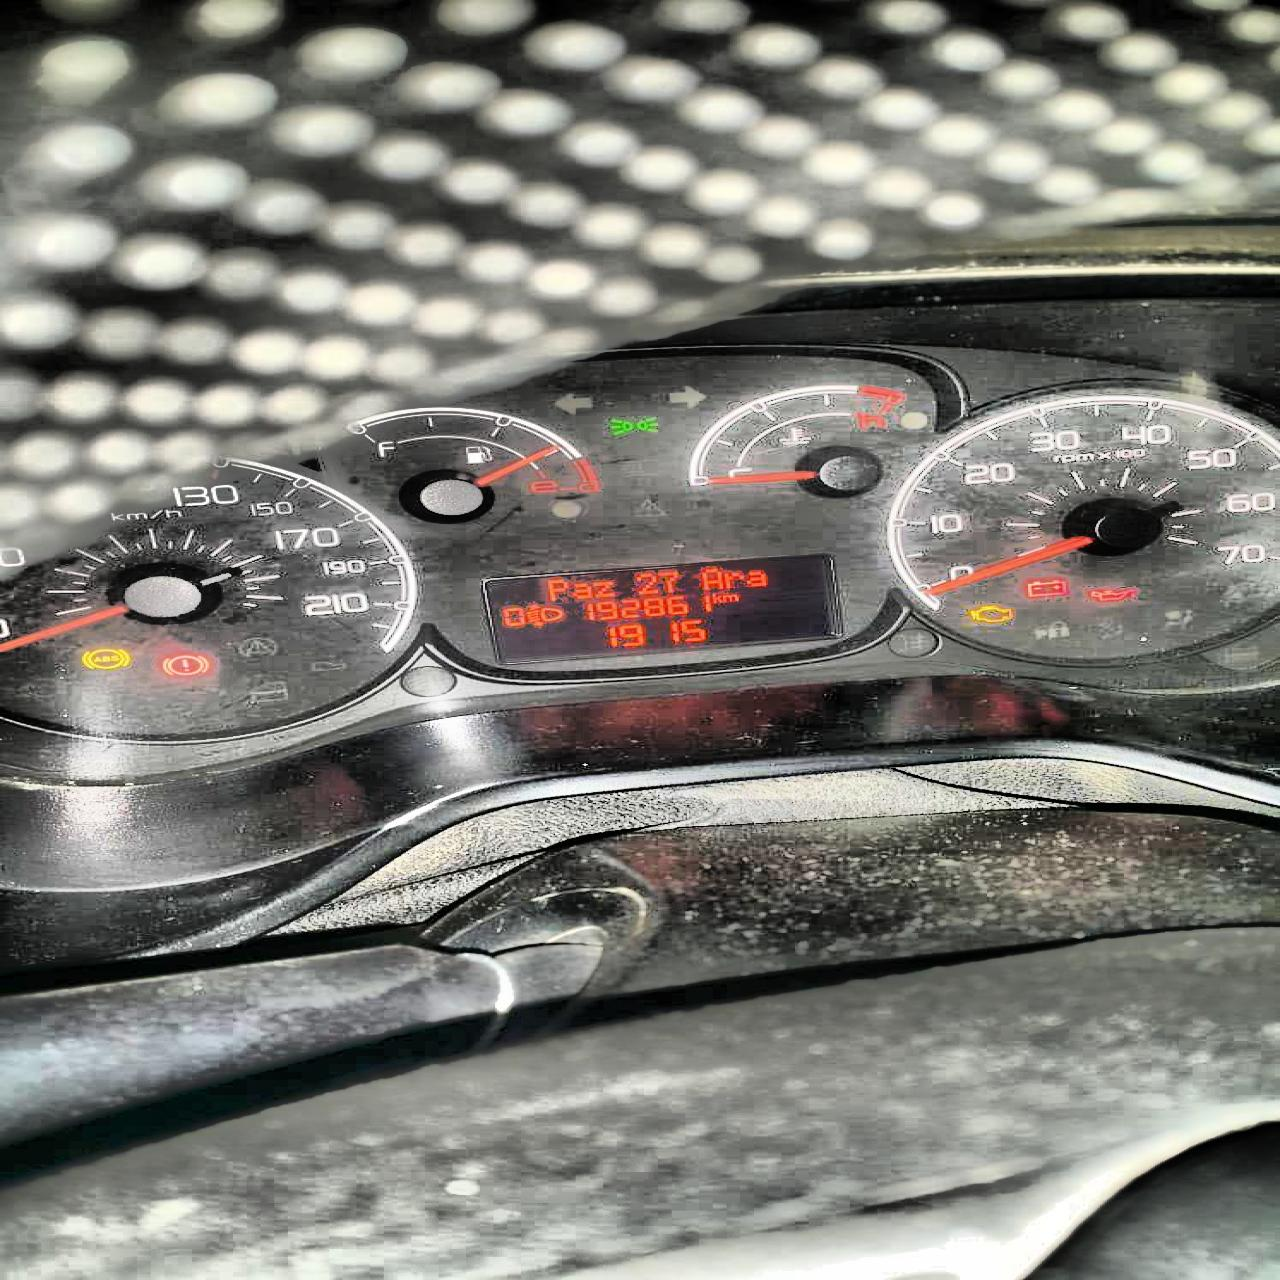0: (501, 606, 524, 626)
1: (583, 600, 597, 620), (668, 621, 679, 644), (606, 625, 617, 647), (703, 594, 712, 612)
2: (634, 572, 658, 594), (619, 598, 639, 619)
5: (680, 619, 706, 642)
6: (665, 595, 687, 615)
7: (656, 570, 682, 592)
8: (642, 595, 663, 617)
9: (619, 624, 645, 647), (597, 599, 617, 620)
X: (542, 579, 568, 601), (700, 567, 724, 591), (721, 571, 744, 588), (591, 580, 615, 597), (745, 571, 768, 588), (571, 581, 591, 599), (709, 592, 722, 601), (722, 594, 741, 600)
odometer: (472, 550, 849, 667)
